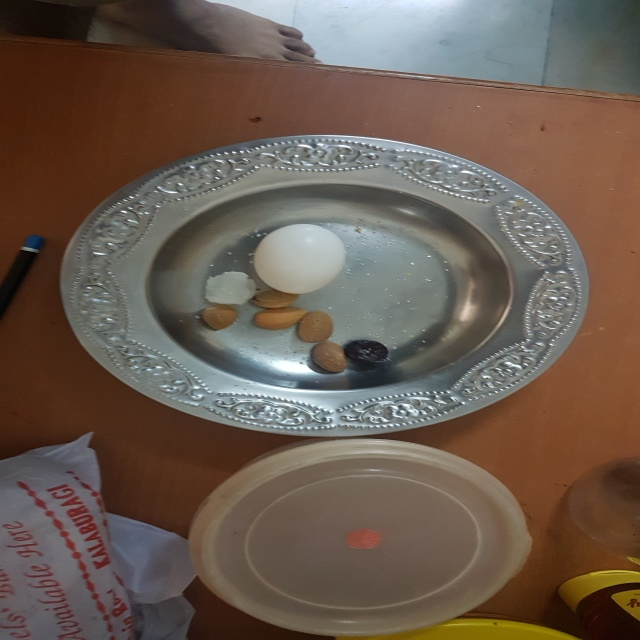eggs: (254, 222, 350, 294)
